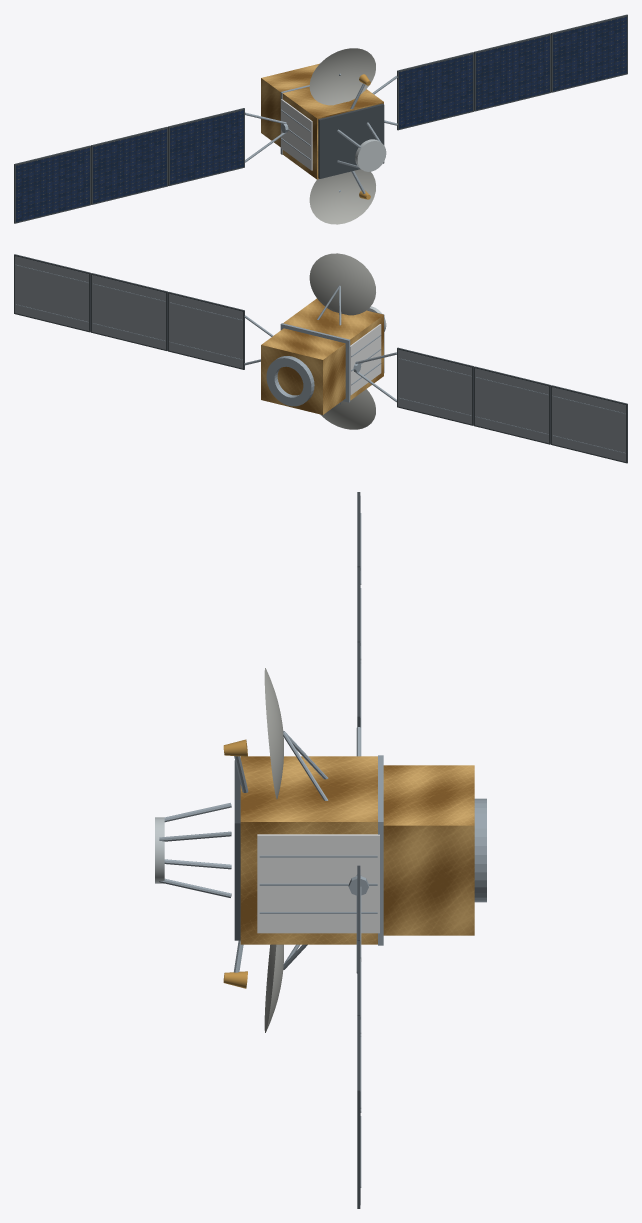
File: ref-italsat-21055.glb
3 views of the same model, one above another, from view 1: azimuth 30°, elevation 25°; view 2: azimuth 150°, elevation 25°; view 3: azimuth 270°, elevation 25° (orthographic). The views are drawn at different scales.
Parts seen in each view (by area): view 1: Solar cell panel (×6), Communications reflector (×2), Earth-facing deck, Solar panel frame (×6), Payload module, Service module, Radiator face, Antenna tower platform; view 2: Rear array substrate (×6), Service module, Communications reflector (×2), Solar panel frame (×6), Payload module, Radiator face, Launch adapter ring, Module interface; view 3: Service module, Payload module, Radiator face, Communications reflector (×2), Launch adapter ring, Earth-facing deck.
Part boxes in pixels (x1,y1,x2,y2): Solar cell panel (×6): (16,16,626,222); Communications reflector (×2): (309,48,375,224); Earth-facing deck: (318,103,384,178); Solar panel frame (×6): (14,14,627,223); Payload module: (282,86,383,179); Service module: (261,63,319,146); Radiator face: (281,99,312,170); Antenna tower platform: (355,139,386,171); Rear array substrate (×6): (15,256,625,461); Service module: (261,328,345,414); Communications reflector (×2): (309,253,375,429); Solar panel frame (×6): (14,254,627,463); Payload module: (283,298,383,400); Radiator face: (349,324,381,395); Launch adapter ring: (266,356,314,406); Module interface: (280,323,350,402); Service module: (383,765,474,935); Payload module: (240,756,377,944); Radiator face: (257,834,379,933); Communications reflector (×2): (264,668,283,1032); Launch adapter ring: (474,798,486,902); Earth-facing deck: (234,760,240,940).
Bounding box in the file's own units: 20.97 × 5.7 × 4.92.
Materials: 9 (2 with a texture image).
